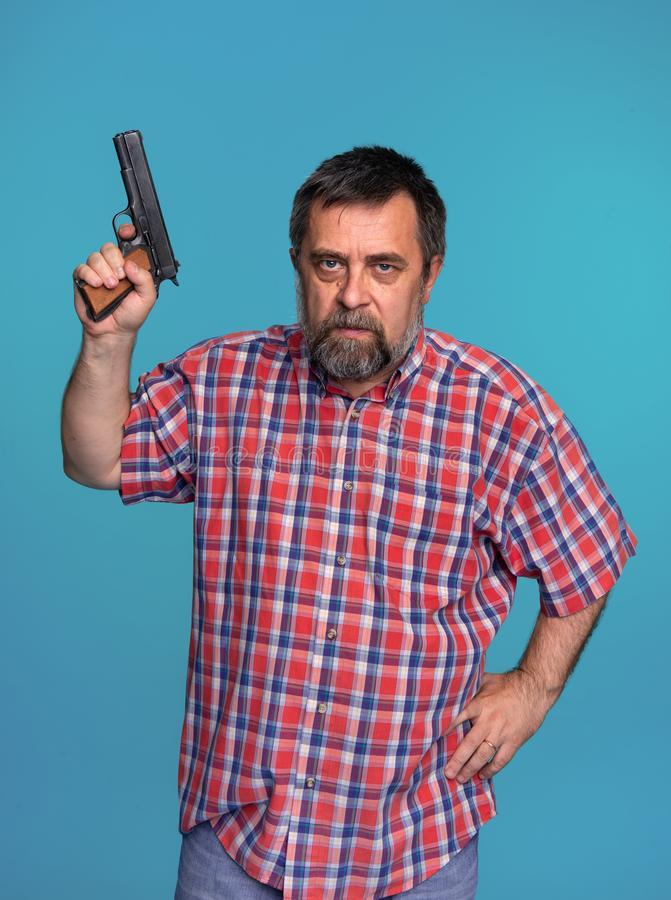criminal: (55, 122, 640, 900)
weapon: (70, 122, 188, 327)
